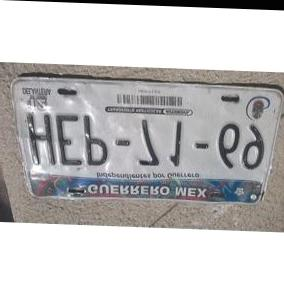License_Plate: (12, 74, 281, 214)
